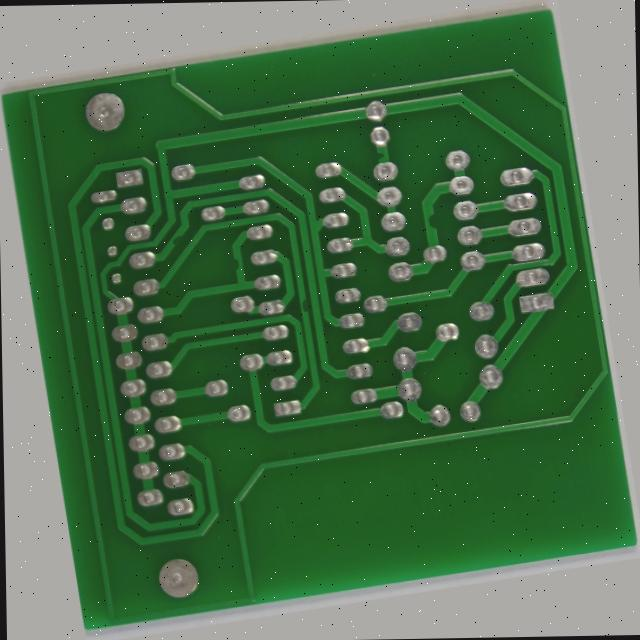mouse_bite: (448, 213, 470, 239), (161, 197, 181, 222), (224, 233, 245, 254), (403, 136, 427, 154), (296, 288, 312, 313)
